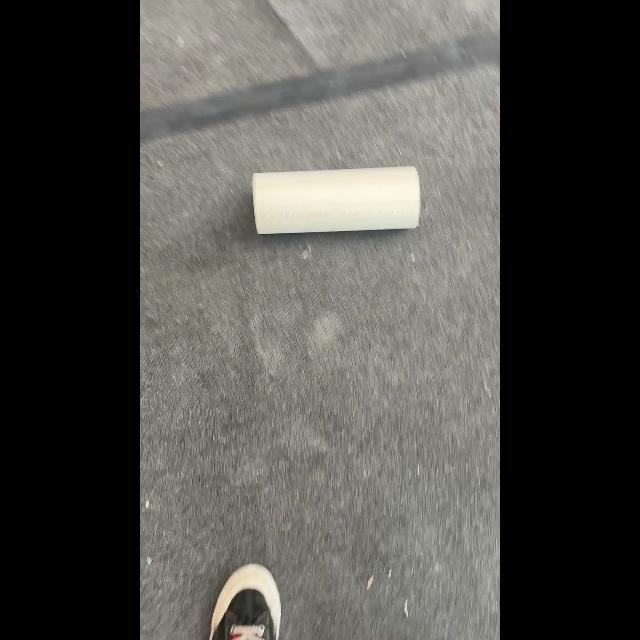CORAL: (251, 165, 421, 235)
